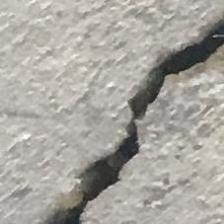Crack: (39, 17, 224, 224)
